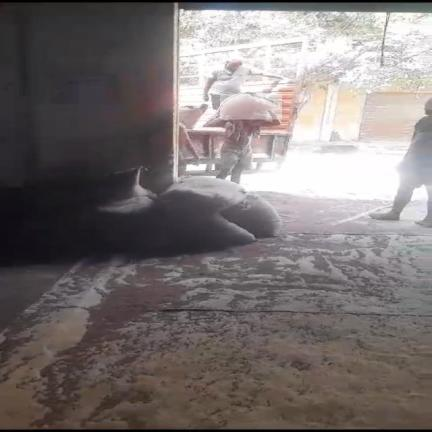Zone-Counting: (213, 93, 279, 183)
